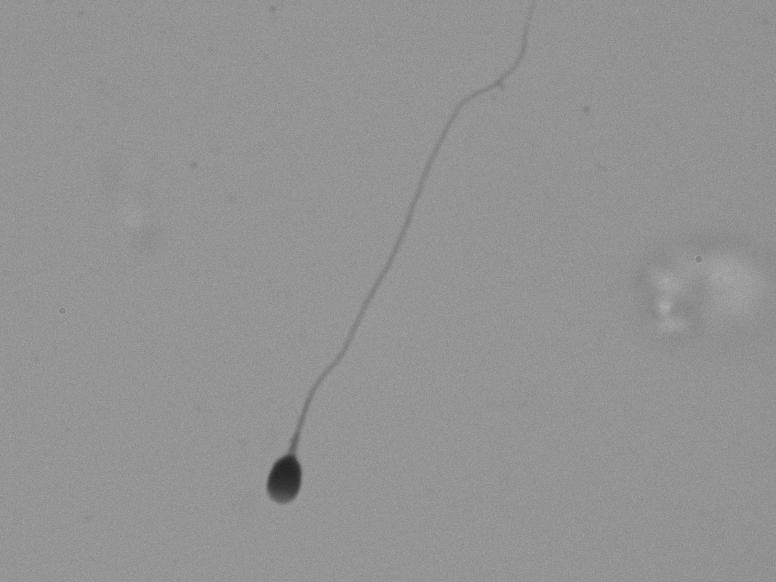Normal: (261, 13, 596, 528)
